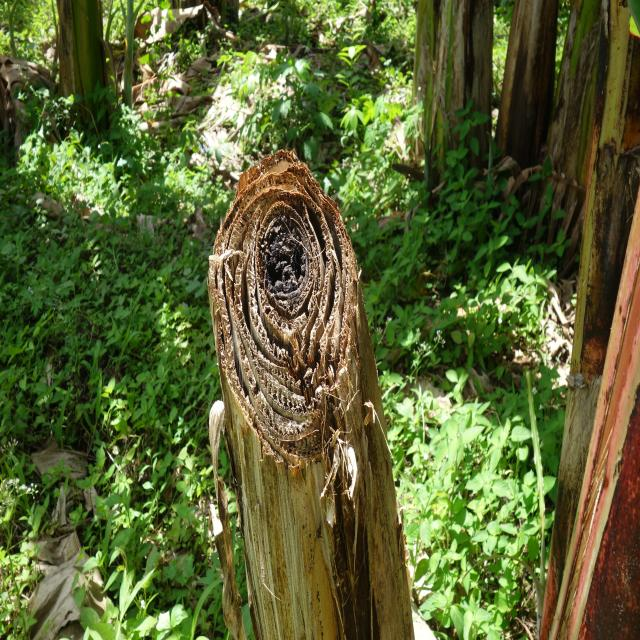Banana-plant: (536, 0, 626, 237), (421, 0, 492, 182), (494, 0, 559, 189), (51, 0, 114, 140)
